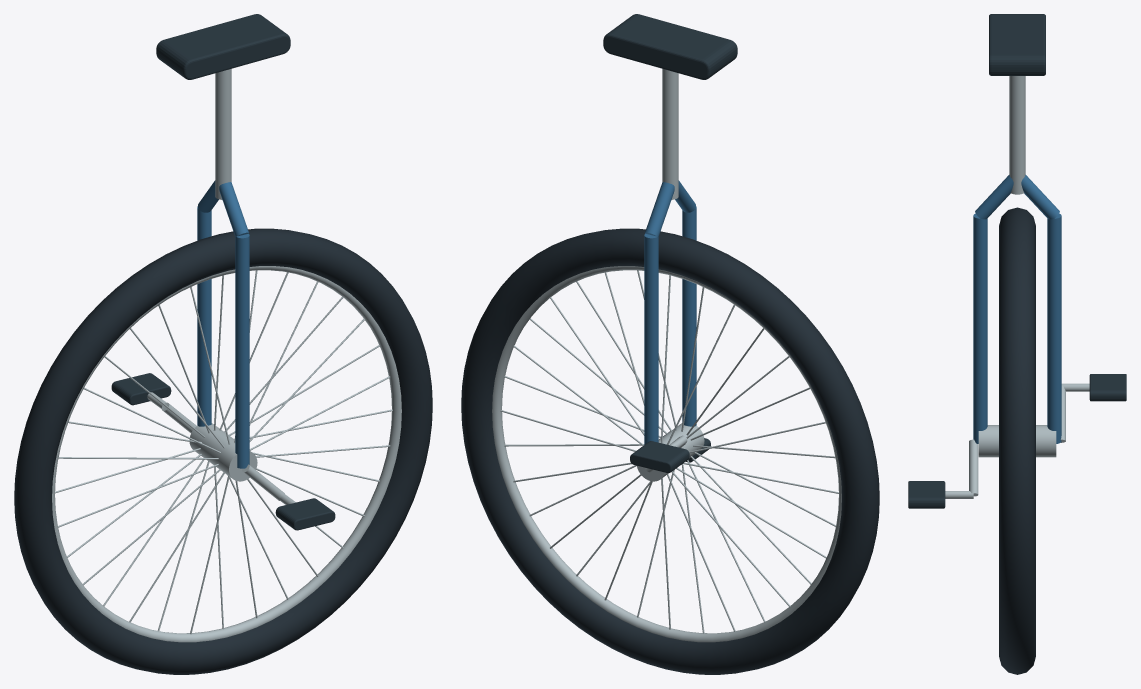
The model's file is unicycle.glb.
The picture shows the model from 3 angles, left to right: view 1: azimuth 30°, elevation 25°; view 2: azimuth 150°, elevation 25°; view 3: azimuth 270°, elevation 25°; orthographic projection. The views are drawn at different scales.
Parts seen in each view (by area): view 1: unicycle; view 2: unicycle; view 3: unicycle.
Part boxes in pixels (left/top/right/bottom): unicycle: left=14, top=14, right=432, bottom=674; unicycle: left=461, top=14, right=879, bottom=674; unicycle: left=908, top=14, right=1126, bottom=674.
Bounding box in the file's own units: 1.39 × 2.03 × 0.65.
